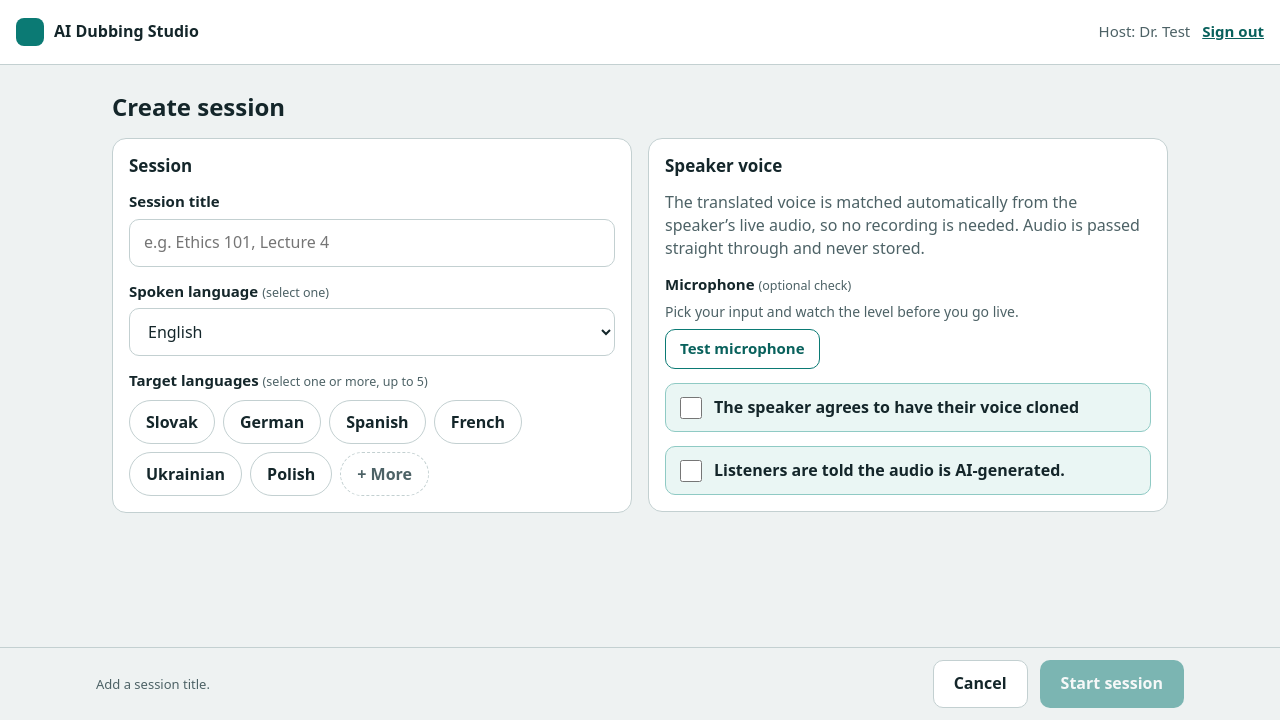
it: Create session: microphone check › opens the microphone on tap and shows the picker and a prompt to speak
This screenshot has width=1280, height=720.
Click the button "Test microphone".
click(742, 348)  # box [665,328,820,368]
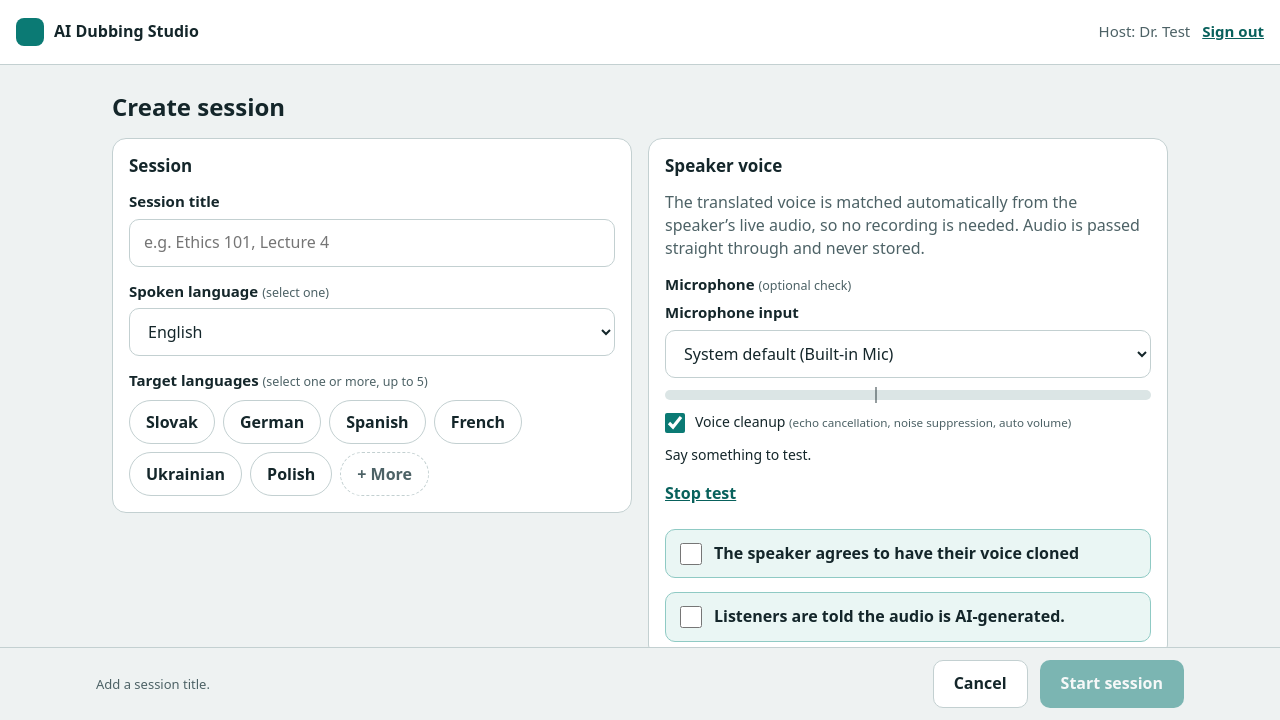
Expected: the dropdown labelled "Microphone input" is shown, [665,330,1151,378]
Expected: the element named "Microphone level" is shown, [665,390,1151,400]
Expected: the text "Say something to test." is shown, [665,445,811,464]
